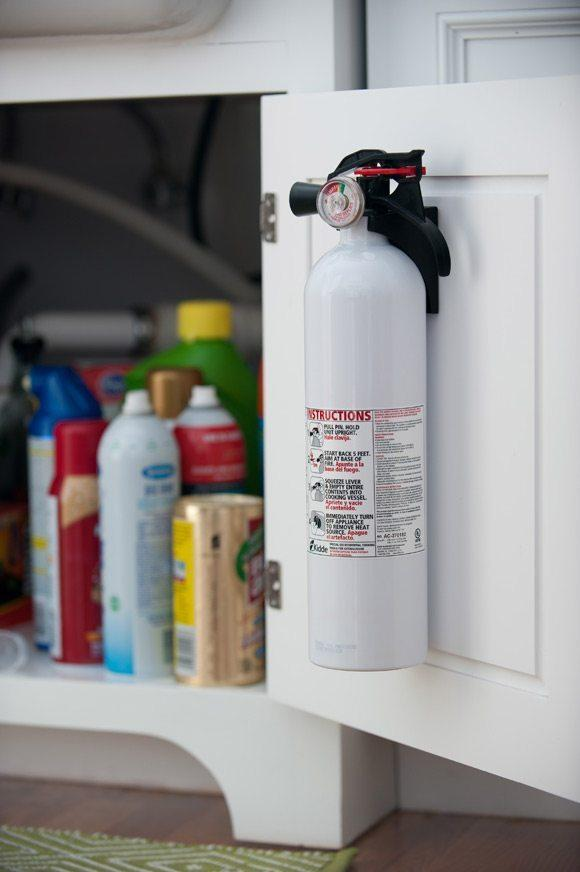Fire Extinguisher: (272, 140, 470, 682)
